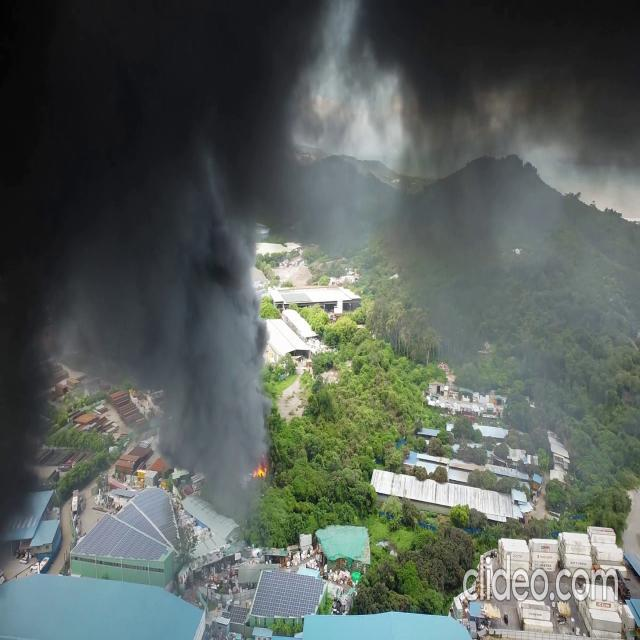Fire: (252, 459, 268, 481)
Smoke: (0, 0, 314, 491), (346, 1, 640, 274)
